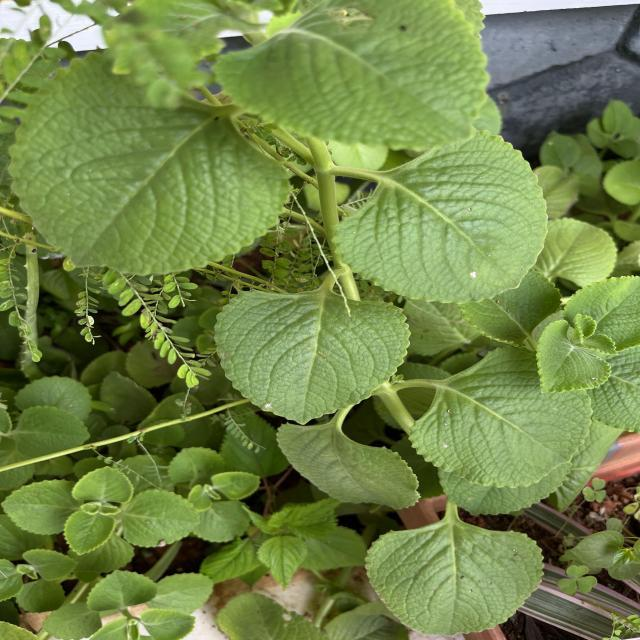Plectranthus barbatus: (7, 50, 296, 278), (212, 0, 492, 152), (332, 128, 551, 306), (212, 288, 412, 427), (408, 343, 596, 490), (365, 524, 546, 638), (274, 422, 422, 510), (536, 216, 620, 288), (534, 318, 612, 394), (565, 276, 640, 352), (120, 488, 202, 548), (1, 478, 85, 536), (14, 403, 90, 457), (86, 568, 159, 611), (70, 465, 135, 504), (61, 510, 116, 555), (21, 548, 80, 582), (141, 608, 197, 640)
